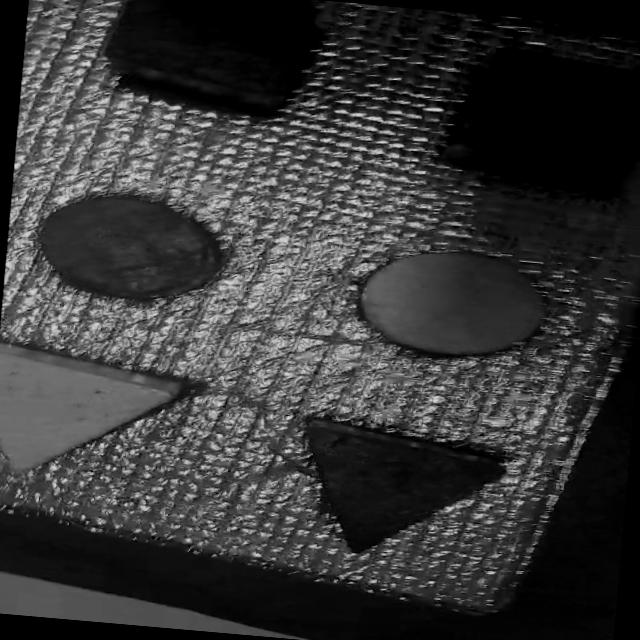btriangle: (272, 392, 528, 576)
rcircle: (23, 188, 255, 318)
ycircle: (324, 225, 570, 383)
ytriangle: (0, 327, 218, 504)
